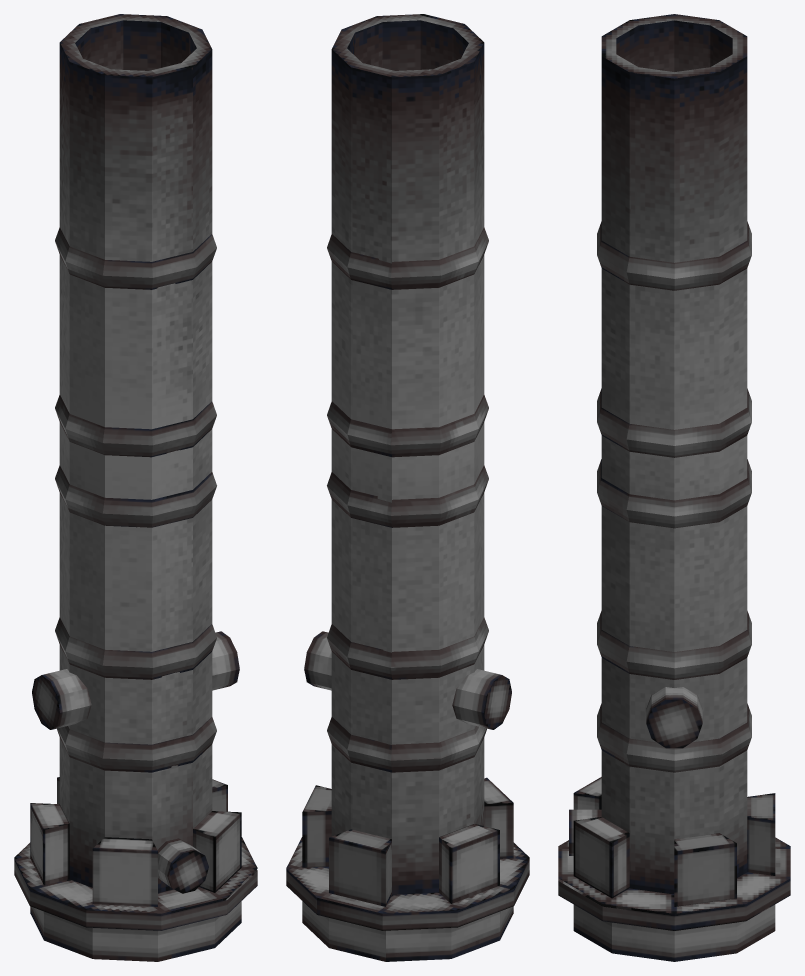
The model's file is modelPipe.fbx.
3 views of the same model, side by side, from view 1: azimuth 30°, elevation 25°; view 2: azimuth 150°, elevation 25°; view 3: azimuth 270°, elevation 25° (orthographic).
Visible parts, largest first — view 1: pTorus6; view 2: pTorus6; view 3: pTorus6.
Part boxes in pixels (left/top/right/bottom): pTorus6: left=14, top=14, right=257, bottom=961; pTorus6: left=286, top=14, right=529, bottom=961; pTorus6: left=558, top=14, right=790, bottom=961.
Size of the model in its own units: 8.67 by 34.06 by 8.24.
1 material, 1 textured.
